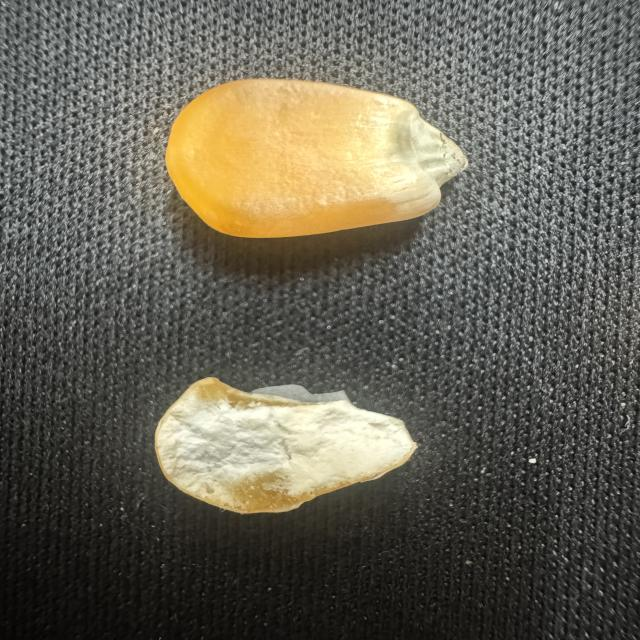Bad-Seed: (146, 364, 428, 518)
Good-Seed: (149, 72, 475, 240)
